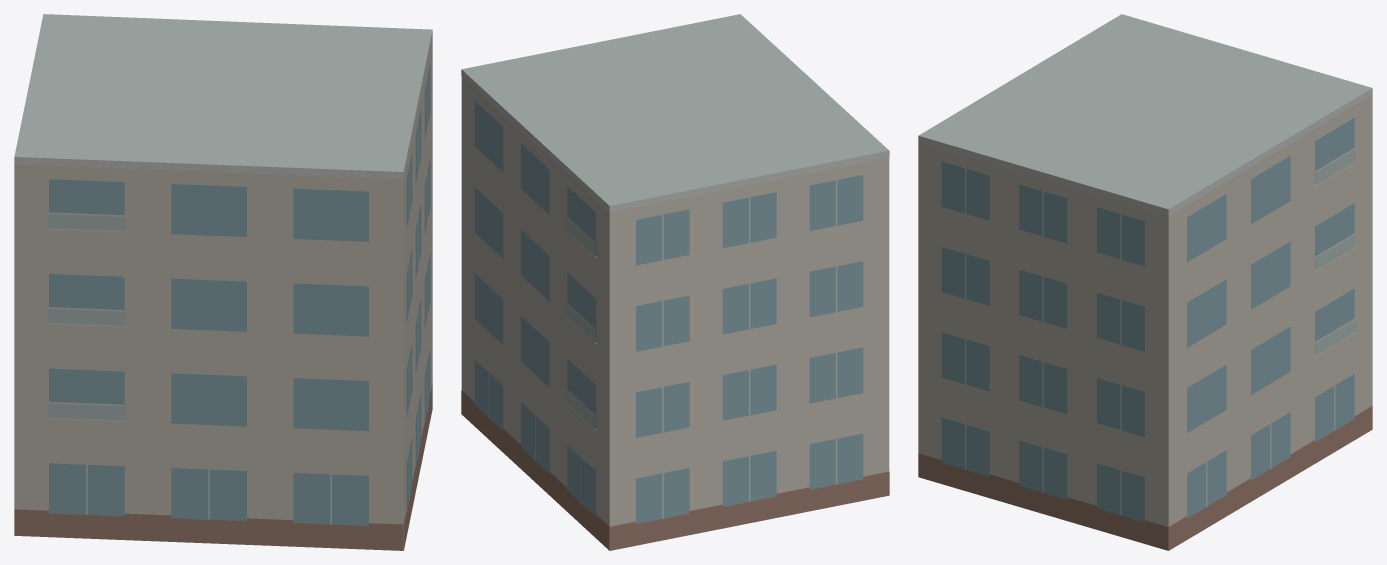
The model's file is survey-upis-32865976.glb.
3 renders of one model, left to right at view 1: azimuth 30°, elevation 25°; view 2: azimuth 150°, elevation 25°; view 3: azimuth 270°, elevation 25°, orthographic. The views are drawn at different scales.
Visible parts, largest first — view 1: survey-upis-32865976.tmp; view 2: survey-upis-32865976.tmp; view 3: survey-upis-32865976.tmp.
Boxes of the visible parts, x1,y1,x2,y2 form: survey-upis-32865976.tmp: [14, 14, 432, 550]; survey-upis-32865976.tmp: [461, 14, 889, 550]; survey-upis-32865976.tmp: [918, 14, 1372, 550].
Bounding box in the file's own units: 15.43 × 12.57 × 15.16.
